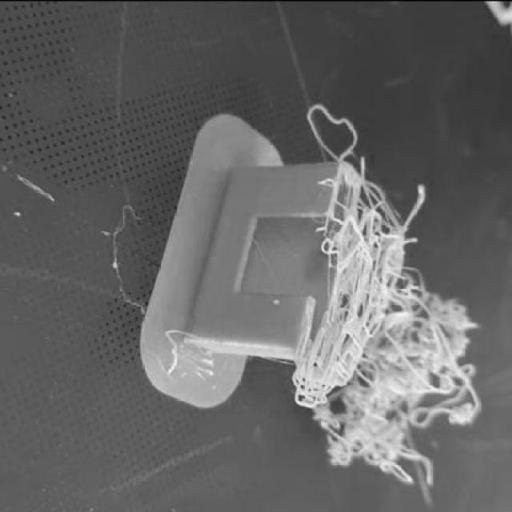spaghetti_and_stringing: (292, 102, 481, 486)
